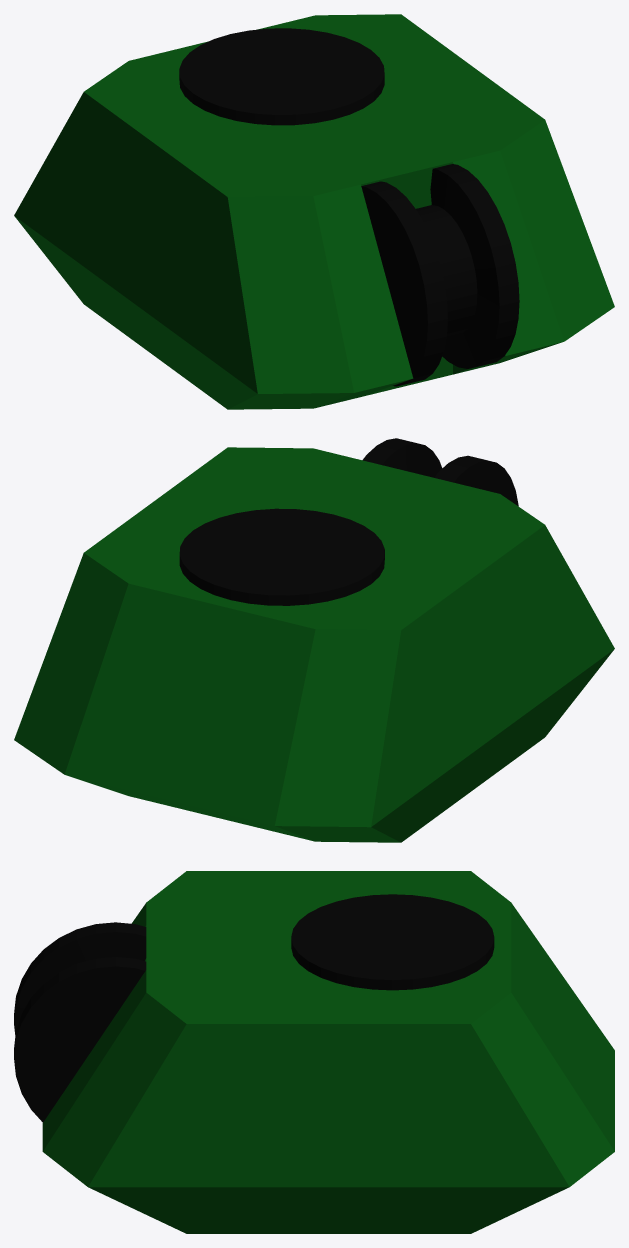
3 renders of one model, top to bottom at view 1: azimuth 30°, elevation 25°; view 2: azimuth 150°, elevation 25°; view 3: azimuth 270°, elevation 25°, orthographic.
Parts seen in each view (by area): view 1: 对象002; view 2: 对象002; view 3: 对象002.
Part boxes in pixels (<box>): 对象002: <box>14,14,614,409</box>; 对象002: <box>14,438,614,842</box>; 对象002: <box>14,871,614,1233</box>.
Bounding box in the file's own units: 15.04 × 8.97 × 22.19.
